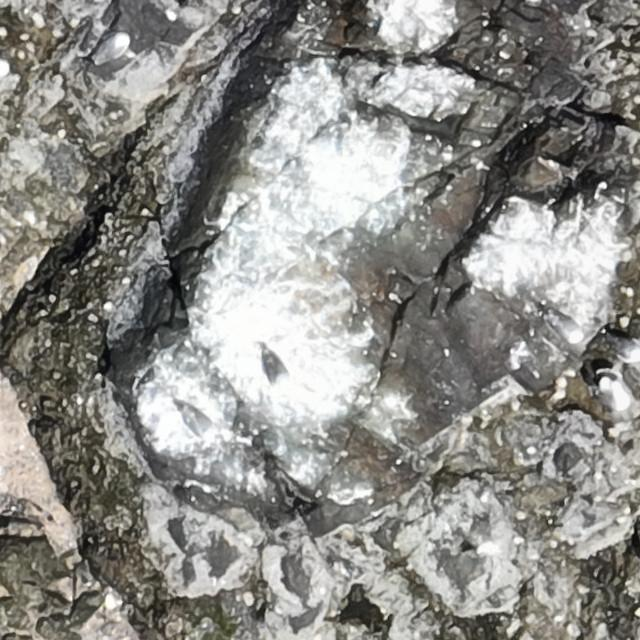umineko: (254, 336, 292, 392), (93, 32, 135, 68), (544, 308, 585, 344), (186, 408, 214, 436)
